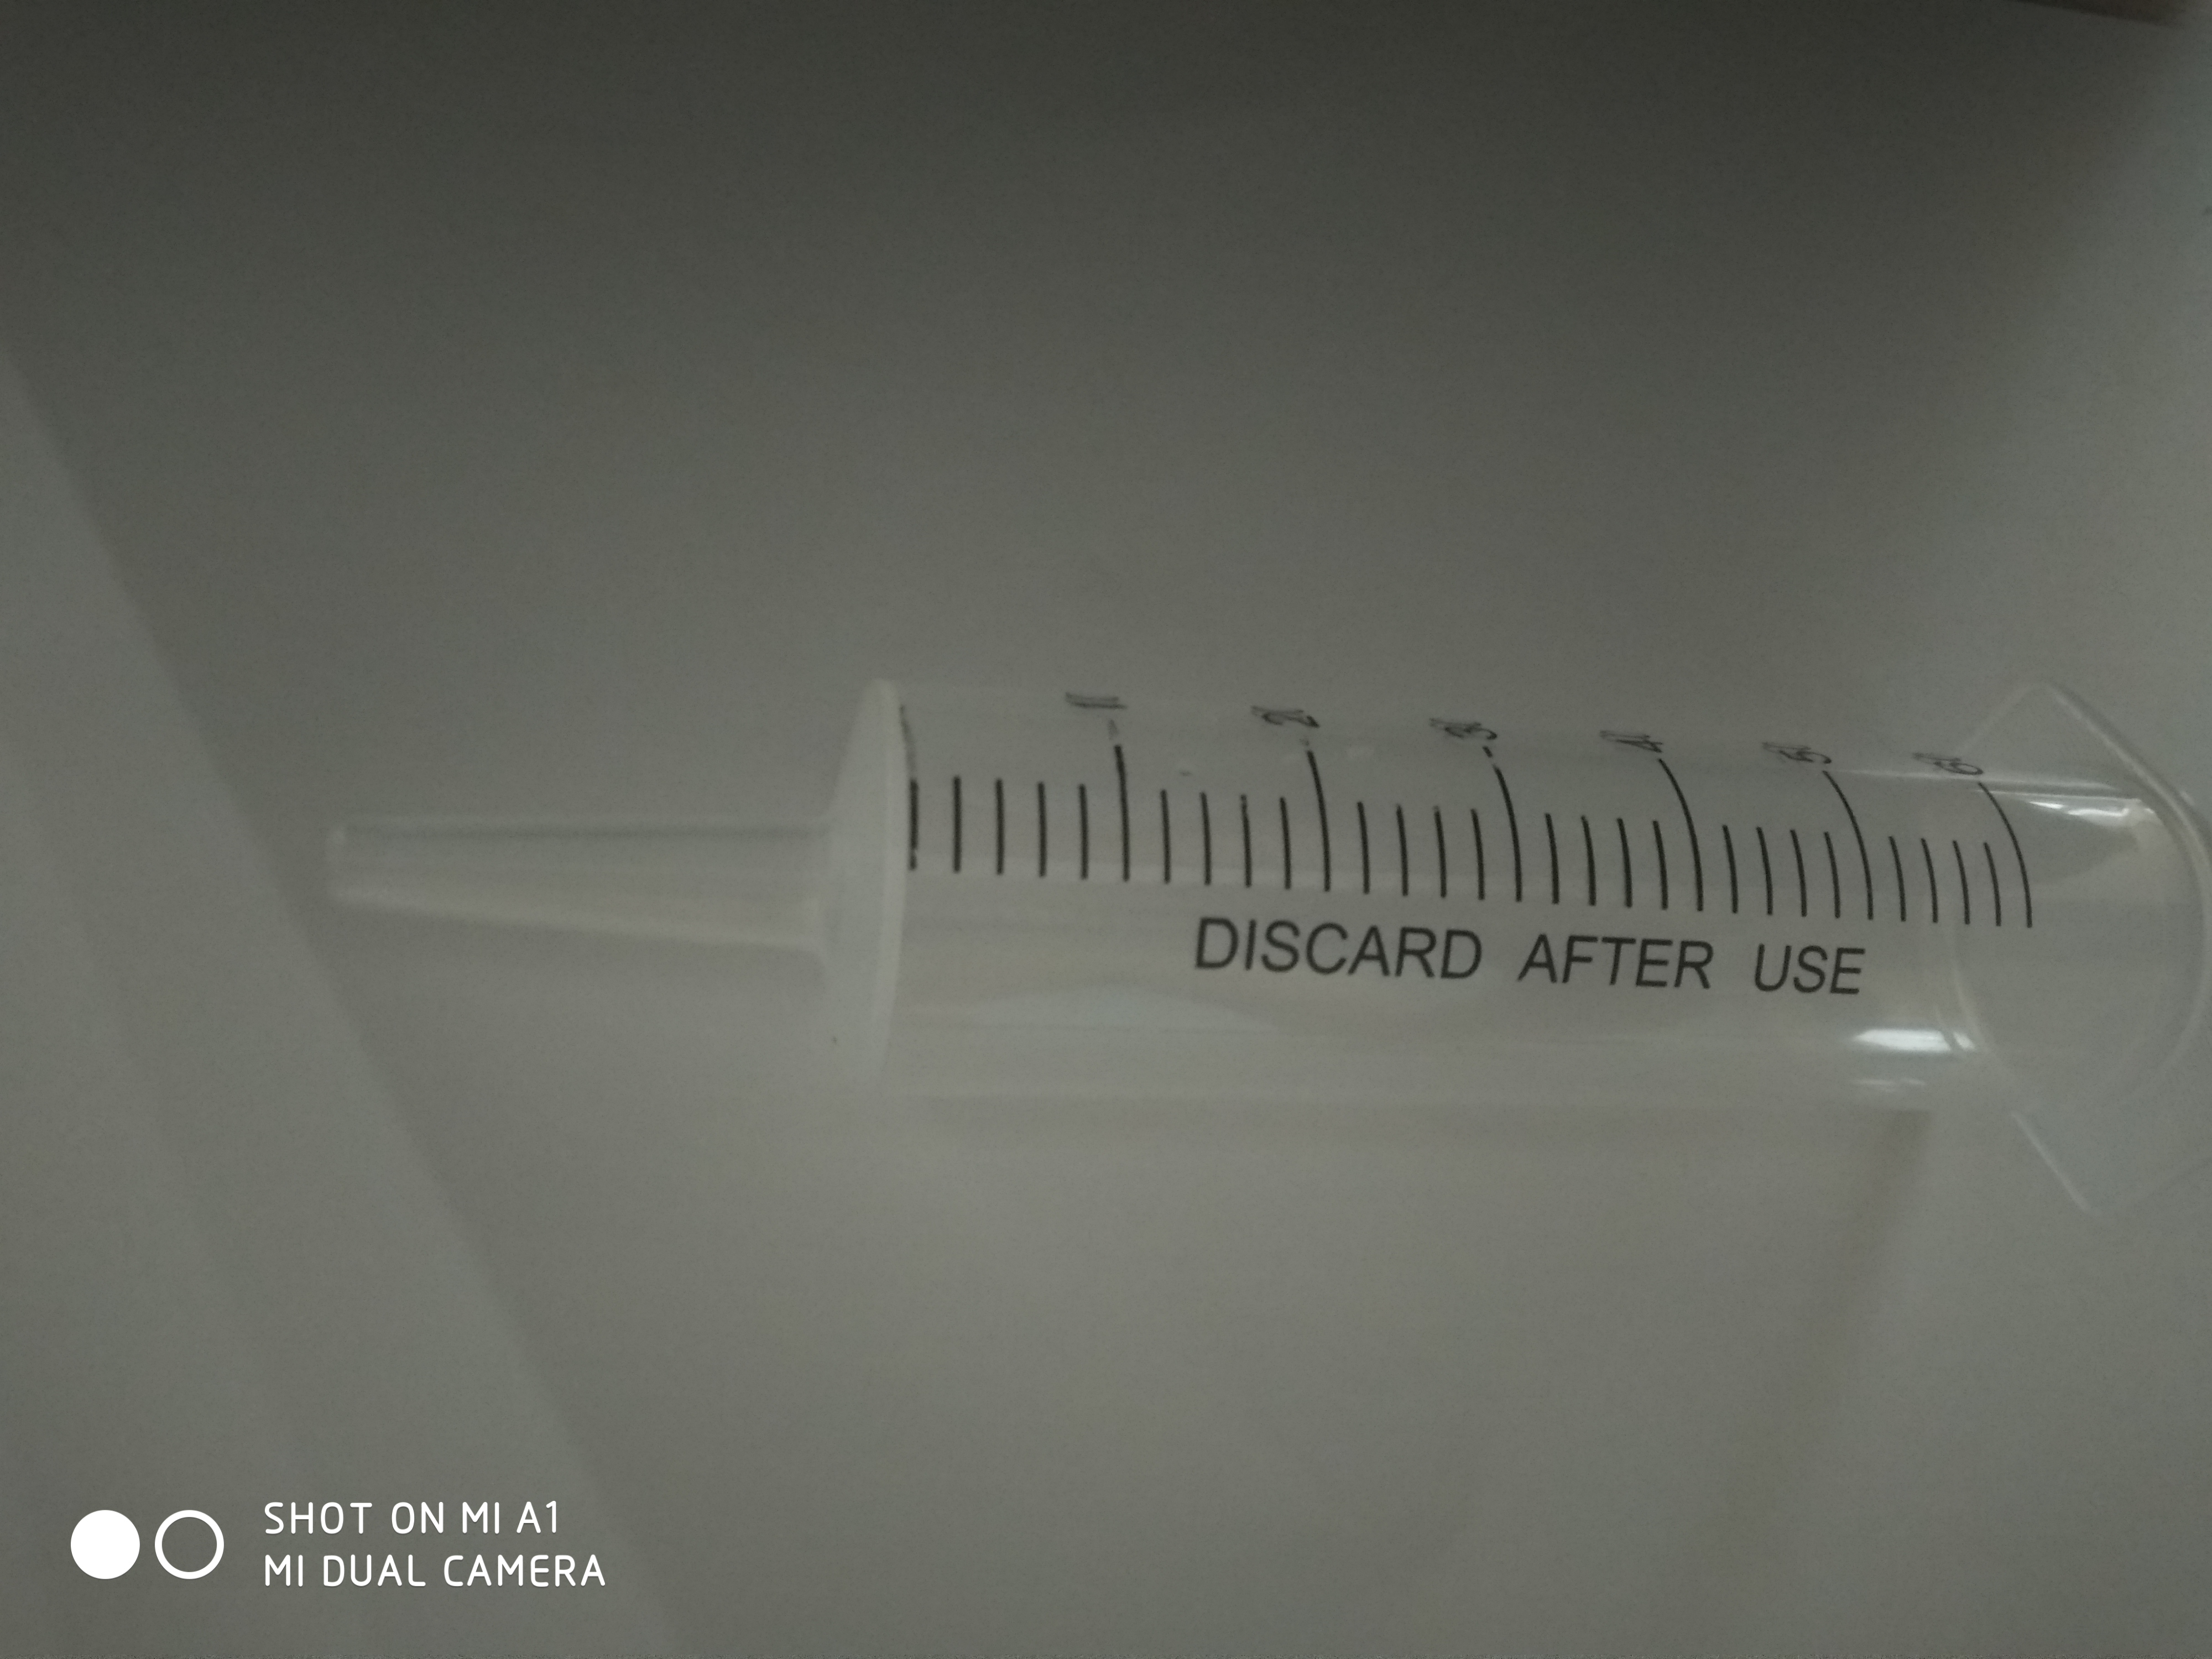syringe: (308, 631, 2209, 1232)
